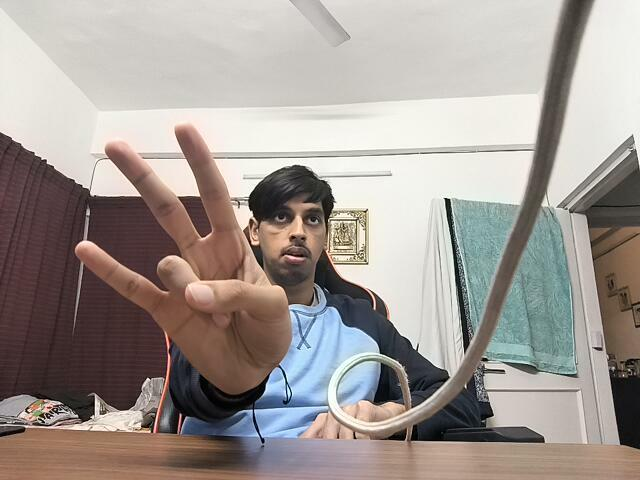BACKWARD: (78, 116, 300, 395)
